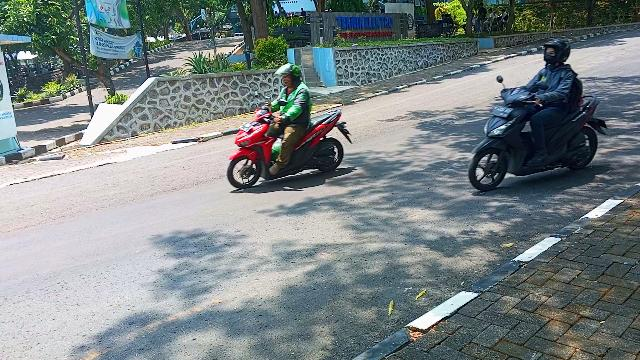helm: (274, 63, 305, 89), (543, 39, 572, 66)
motor: (468, 76, 611, 192), (226, 97, 354, 191)
